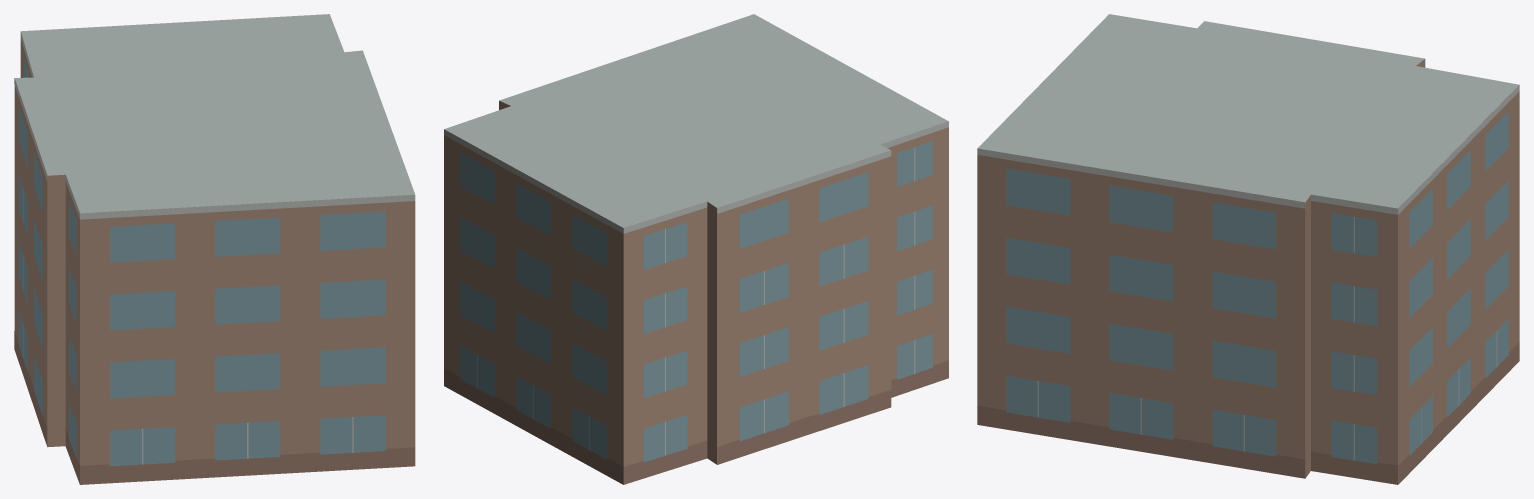
Rendered from survey-upis-32974291.glb.
3 views of the same model, side by side, from view 1: azimuth 30°, elevation 25°; view 2: azimuth 150°, elevation 25°; view 3: azimuth 270°, elevation 25° (orthographic). The views are drawn at different scales.
Visible parts, largest first — view 1: survey-upis-32974291.tmp; view 2: survey-upis-32974291.tmp; view 3: survey-upis-32974291.tmp.
Part boxes in pixels (x1,y1,x2,y2): survey-upis-32974291.tmp: (14,14,415,484); survey-upis-32974291.tmp: (444,14,948,484); survey-upis-32974291.tmp: (977,14,1519,484).
Bounding box in the file's own units: 16.01 × 10.6 × 18.86.
